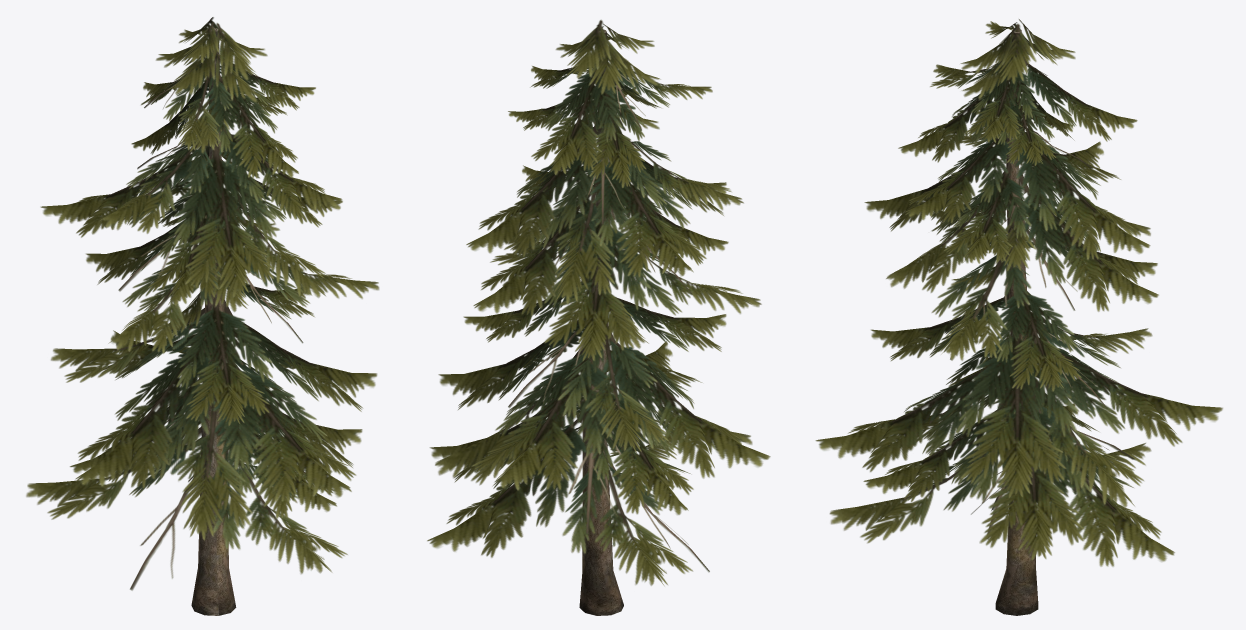
Rendered from fire-large-2.glb.
3 views of the same model, side by side, from view 1: azimuth 30°, elevation 25°; view 2: azimuth 150°, elevation 25°; view 3: azimuth 270°, elevation 25° (orthographic).
Visible parts, largest first — view 1: Branches, Tree_bark; view 2: Branches, Tree_bark; view 3: Branches, Tree_bark.
Boxes of the visible parts, x1,y1,x2,y2 form: Branches: [26, 17, 379, 590]; Tree_bark: [191, 28, 236, 615]; Branches: [427, 20, 770, 585]; Tree_bark: [579, 29, 623, 615]; Branches: [815, 19, 1222, 566]; Tree_bark: [995, 29, 1038, 615].
Size of the model in its own units: 365 by 624 by 405.
2 materials, 2 textured.
